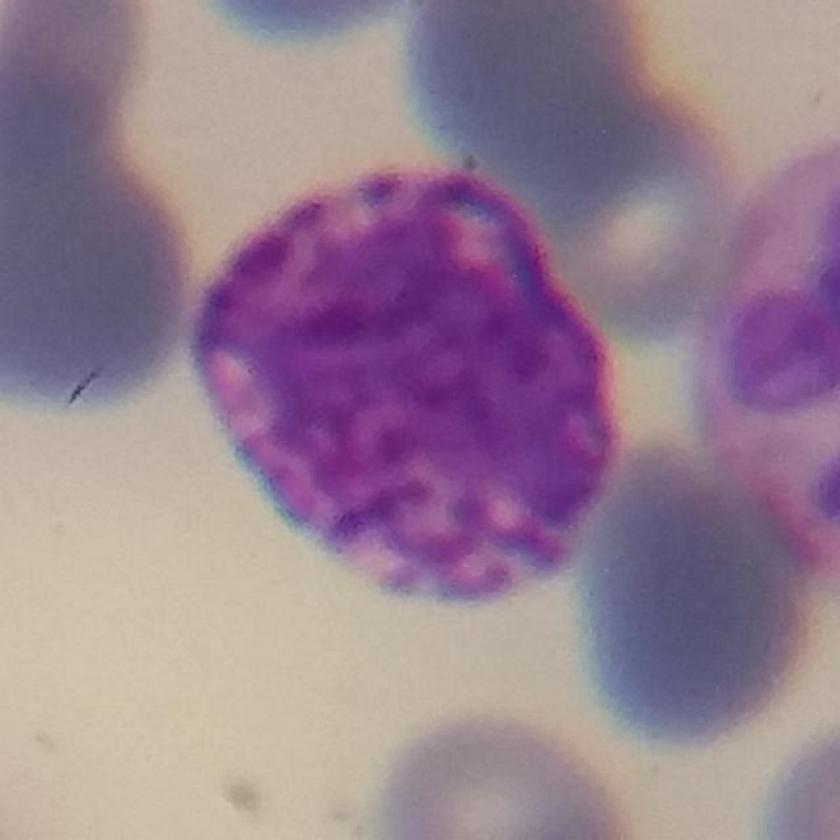basophil: (187, 158, 631, 610)
